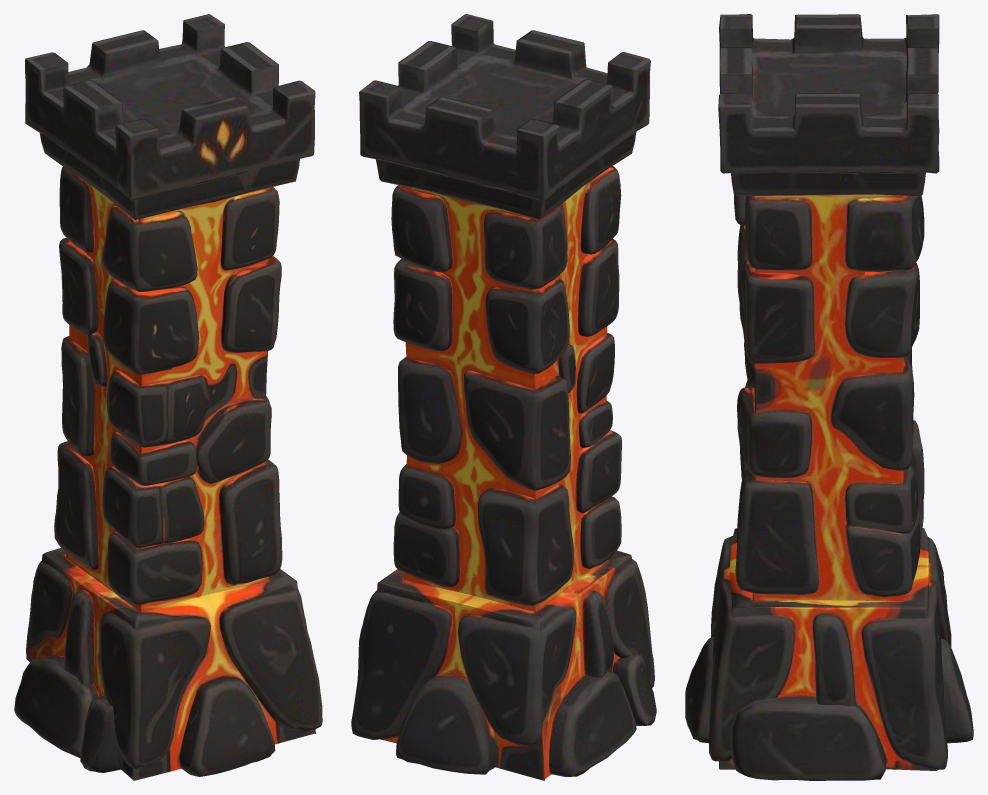
The model's file is fj_pilar.glb.
3 views of the same model, side by side, from view 1: azimuth 30°, elevation 25°; view 2: azimuth 150°, elevation 25°; view 3: azimuth 270°, elevation 25° (orthographic). The views are drawn at different scales.
Parts seen in each view (by area): view 1: Mesh_0; view 2: Mesh_0; view 3: Mesh_0.
Boxes of the visible parts, bbox=[...] form: Mesh_0: bbox=[14, 14, 322, 780]; Mesh_0: bbox=[351, 14, 656, 780]; Mesh_0: bbox=[685, 14, 973, 780].
Bounding box in the file's own units: 0.3779 × 1 × 0.3936.
1 material, 1 textured.
